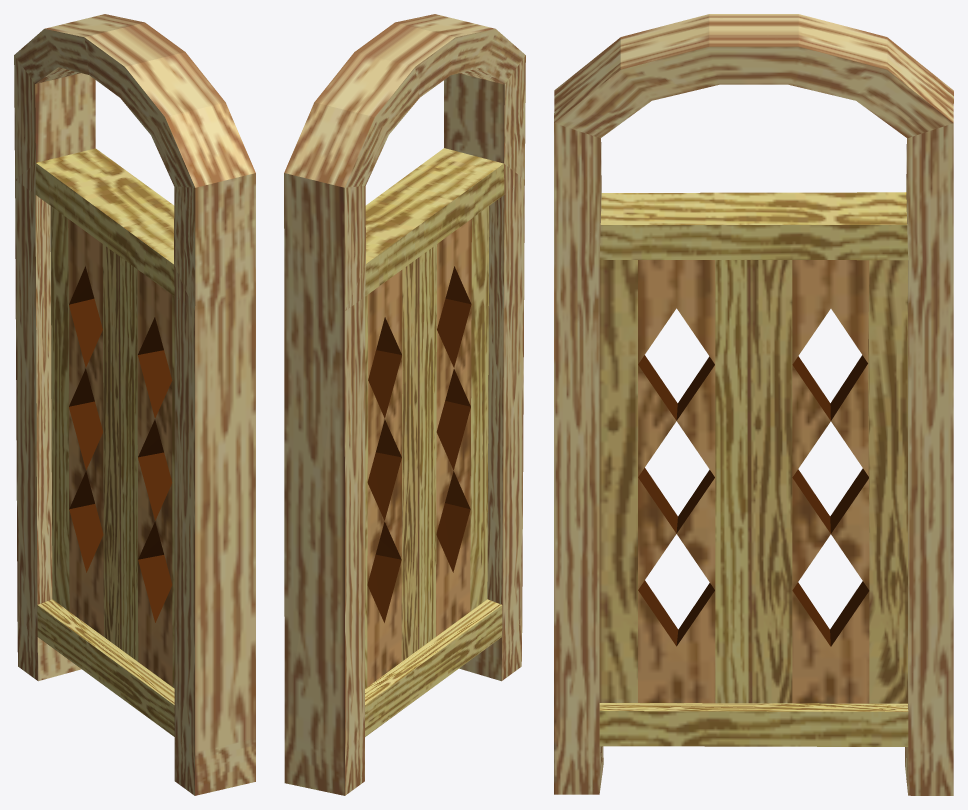
The model's file is biadoor_bake.dae.
3 views of the same model, side by side, from view 1: azimuth 30°, elevation 25°; view 2: azimuth 150°, elevation 25°; view 3: azimuth 270°, elevation 25° (orthographic). The views are drawn at different scales.
Visible parts, largest first — view 1: m0; view 2: m0; view 3: m0.
Part boxes in pixels (x1=…): m0: x1=14, y1=14, x2=255, y2=795; m0: x1=284, y1=14, x2=525, y2=795; m0: x1=554, y1=14, x2=953, y2=795.
Bounding box in the file's own units: 105 × 1129 × 545.
2 materials, 2 textured.
